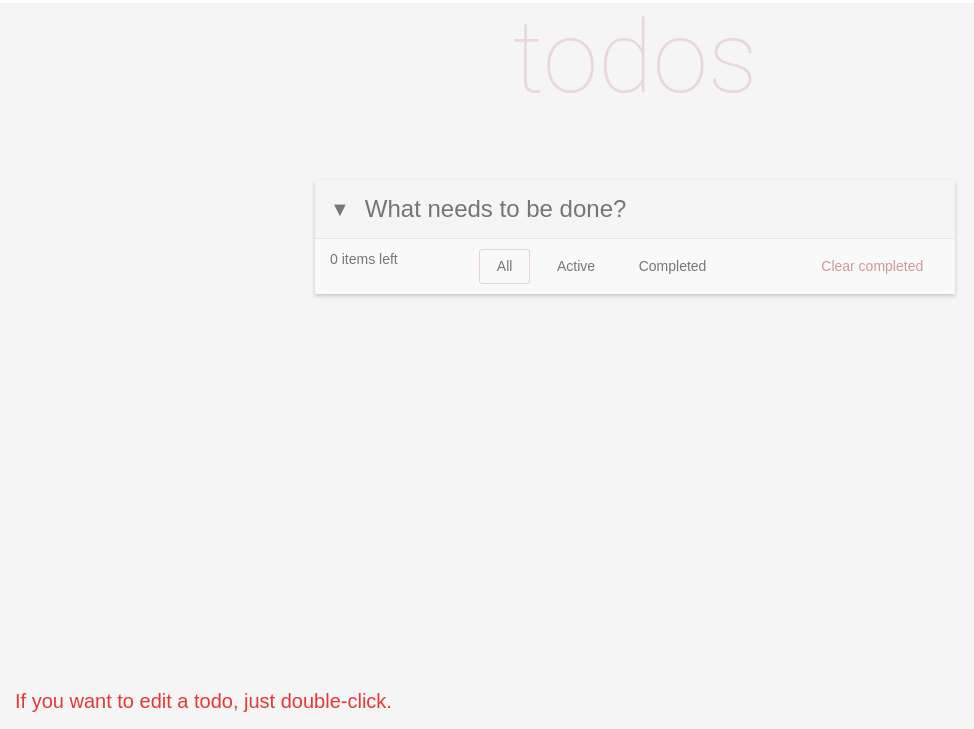
Scenario: Check main features › adds a new todo
The width and height of the screenshot is (974, 729).
Type "New Todo" into the field with placeholder "What needs to be done?".
click(652, 209); type("New Todo")  # box [350,180,955,238]
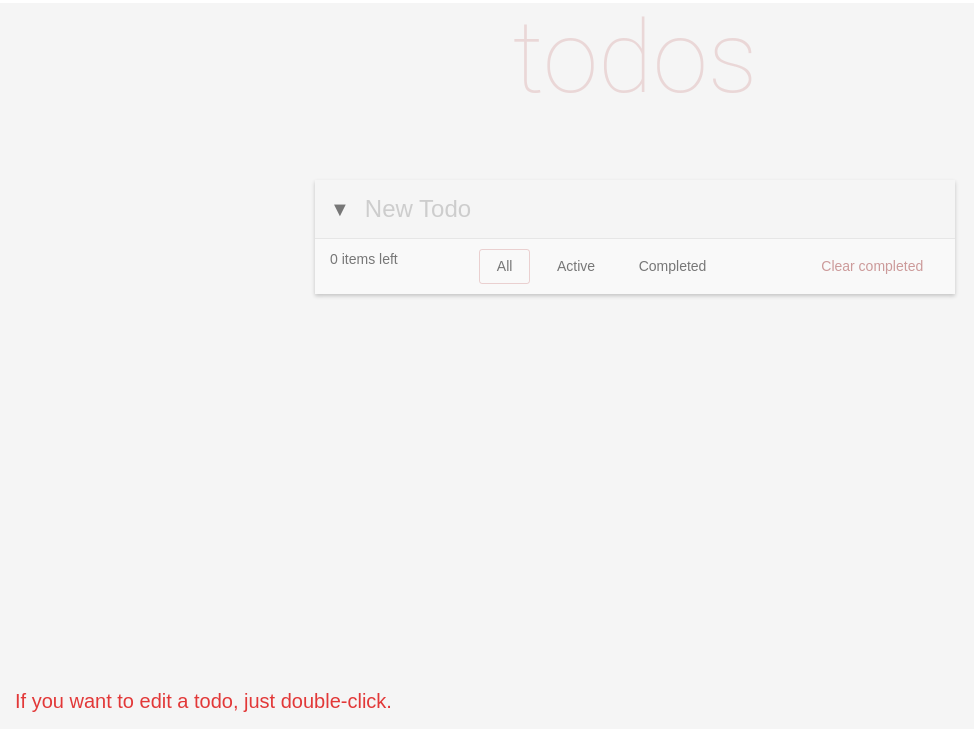
Press Enter in the field with placeholder "What needs to be done?", box [350,180,955,238]
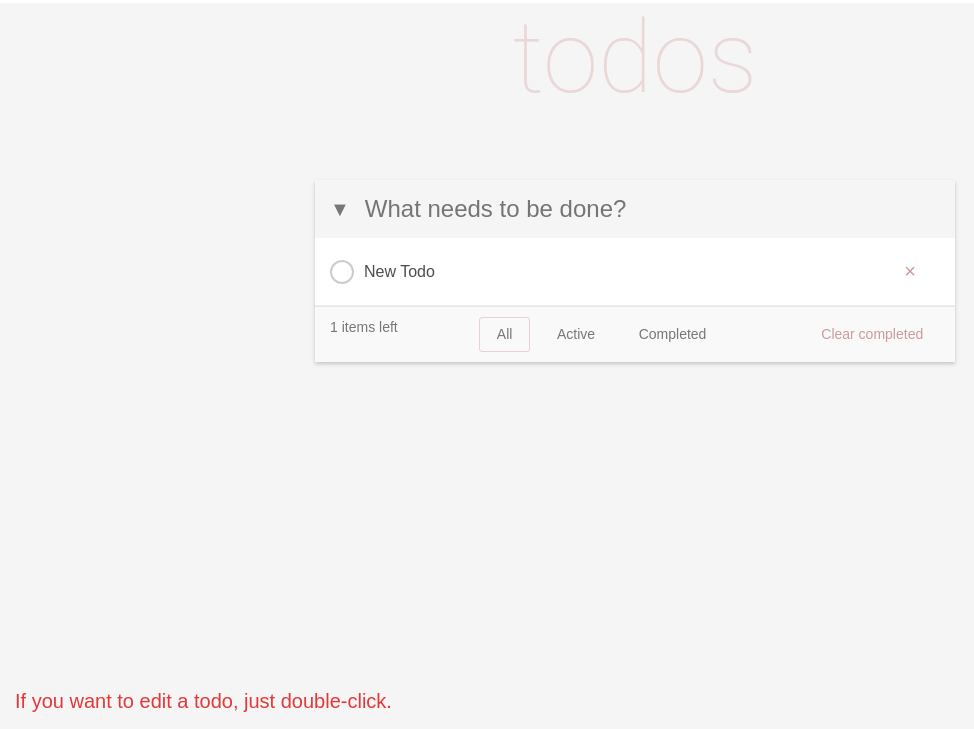
Check: the text "New Todo" is shown, box [364,262,435,280]
